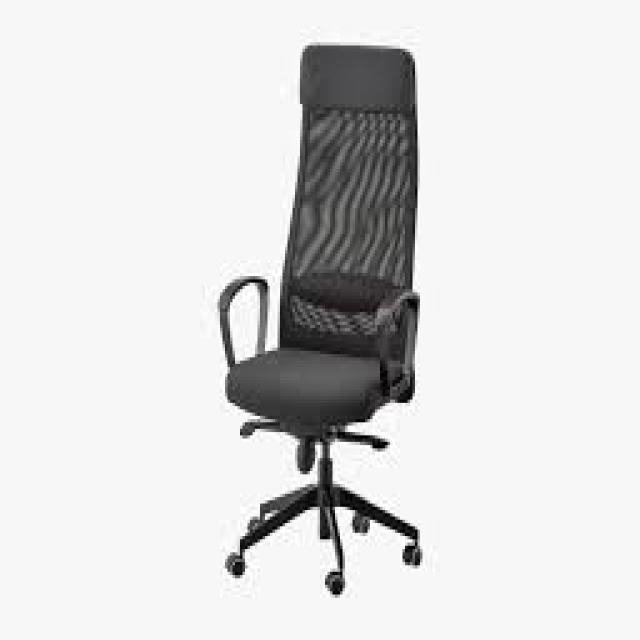chair: (131, 8, 519, 640)
